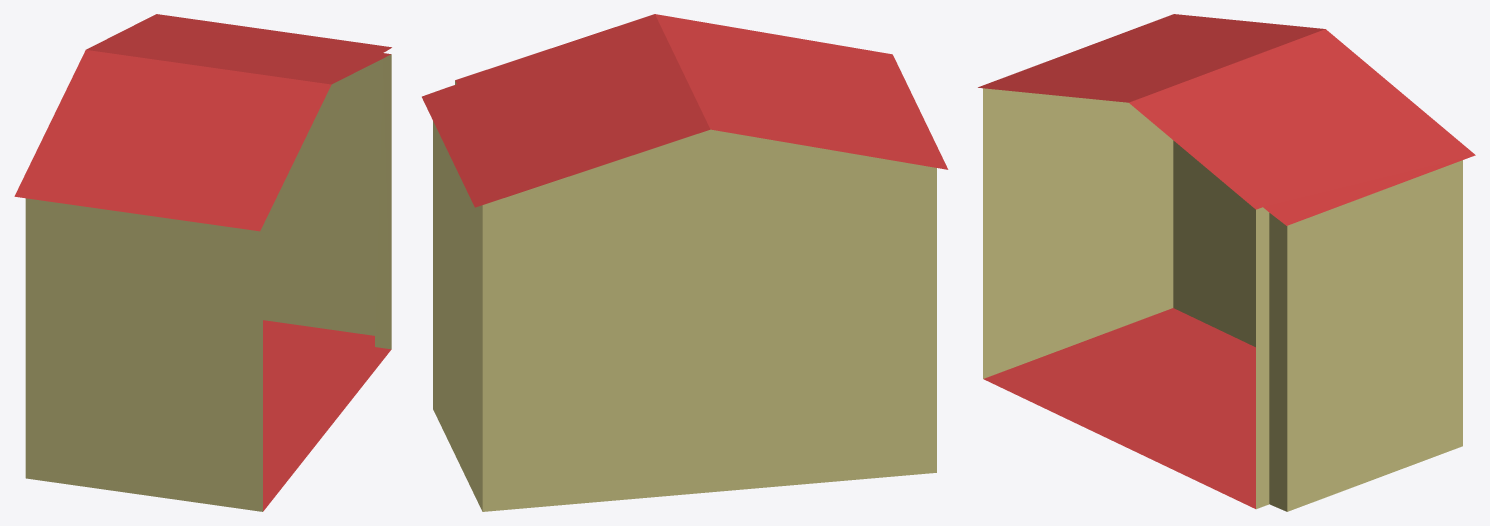
The picture shows the model from 3 angles, left to right: view 1: azimuth 30°, elevation 25°; view 2: azimuth 150°, elevation 25°; view 3: azimuth 270°, elevation 25°; orthographic projection. The views are drawn at different scales.
Bounding box in the file's own units: 13.86 × 13.6 × 10.4.
